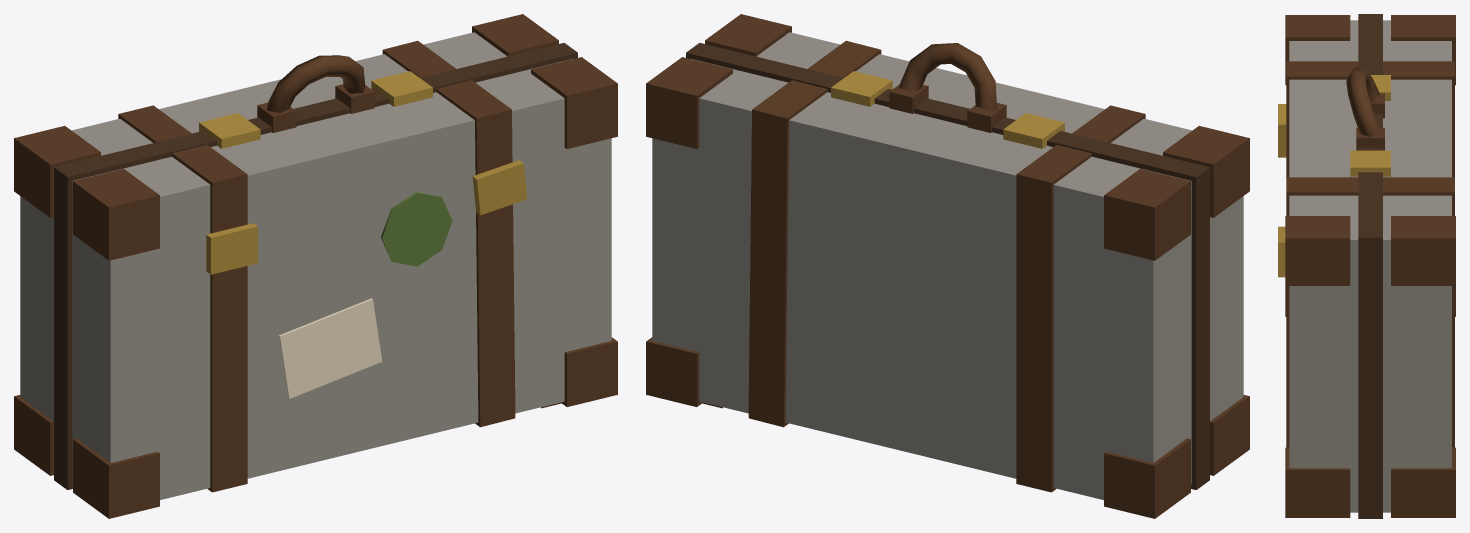
File: Koffer.glb
3 views of the same model, side by side, from view 1: azimuth 30°, elevation 25°; view 2: azimuth 150°, elevation 25°; view 3: azimuth 270°, elevation 25° (orthographic). The views are drawn at different scales.
Parts seen in each view (by area): view 1: Body, Leather, Seam, Brass, StickerA, StickerB, Handle; view 2: Body, Leather, Seam, Handle, Brass; view 3: Body, Leather, Seam, Brass, Handle.
Part boxes in pixels (x1=…): Body: x1=20, y1=32, x2=611, y2=499; Leather: x1=14, y1=14, x2=617, y2=518; Seam: x1=54, y1=43, x2=577, y2=489; Brass: x1=199, y1=71, x2=527, y2=274; StickerA: x1=279, y1=298, x2=382, y2=398; StickerB: x1=381, y1=192, x2=452, y2=266; Handle: x1=266, y1=55, x2=365, y2=112; Body: x1=652, y1=32, x2=1243, y2=499; Leather: x1=646, y1=14, x2=1249, y2=518; Seam: x1=686, y1=43, x2=1209, y2=489; Handle: x1=898, y1=43, x2=997, y2=110; Brass: x1=831, y1=71, x2=1064, y2=148; Body: x1=1289, y1=20, x2=1451, y2=512; Leather: x1=1285, y1=15, x2=1455, y2=517; Seam: x1=1358, y1=14, x2=1382, y2=518; Brass: x1=1278, y1=75, x2=1390, y2=277; Handle: x1=1346, y1=67, x2=1379, y2=136.
Bounding box in the file's own units: 0.652 × 0.4642 × 0.219.
